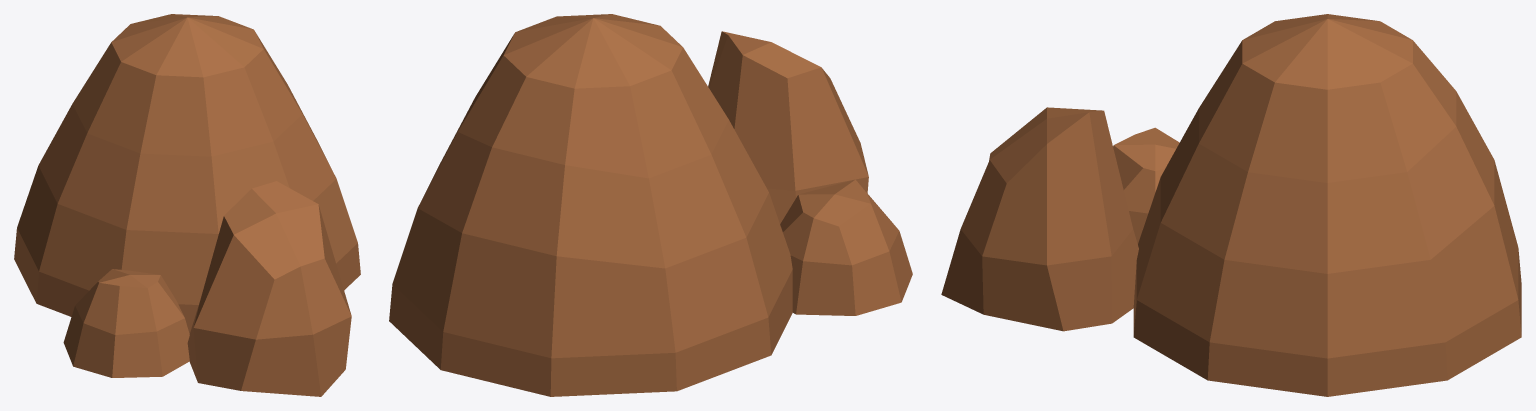
Rendered from Stone130cm.fbx.
The picture shows the model from 3 angles, left to right: view 1: azimuth 30°, elevation 25°; view 2: azimuth 150°, elevation 25°; view 3: azimuth 270°, elevation 25°; orthographic projection. The views are drawn at different scales.
Visible parts, largest first — view 1: pCone1, Stone3:pCube1, Stone2:pCube1; view 2: pCone1, Stone3:pCube1, Stone2:pCube1; view 3: pCone1, Stone3:pCube1, Stone2:pCube1.
Part boxes in pixels (x1,y1,x2,y2): pCone1: (14,14,360,333); Stone3:pCube1: (187,181,351,396); Stone2:pCube1: (63,269,189,377); pCone1: (389,14,792,396); Stone3:pCube1: (708,31,868,223); Stone2:pCube1: (780,179,912,315); pCone1: (1133,14,1521,396); Stone3:pCube1: (941,107,1138,331); Stone2:pCube1: (1113,127,1179,244).
Size of the model in its own units: 292 by 208 by 370.
